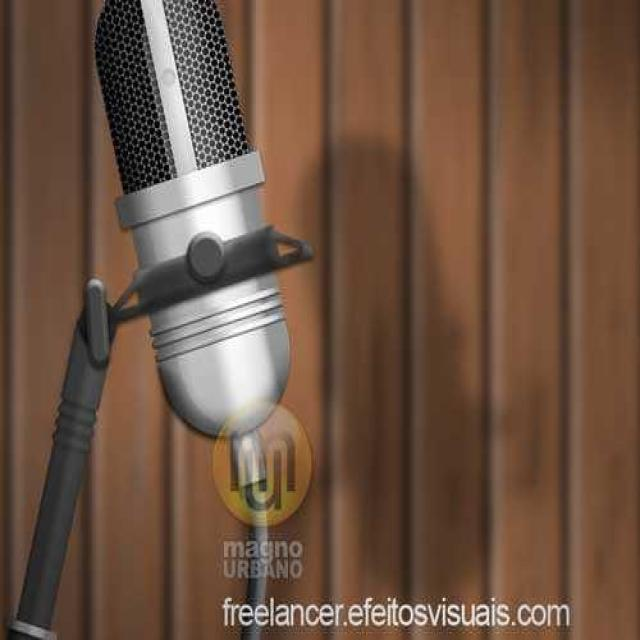microphone: (96, 6, 294, 440)
